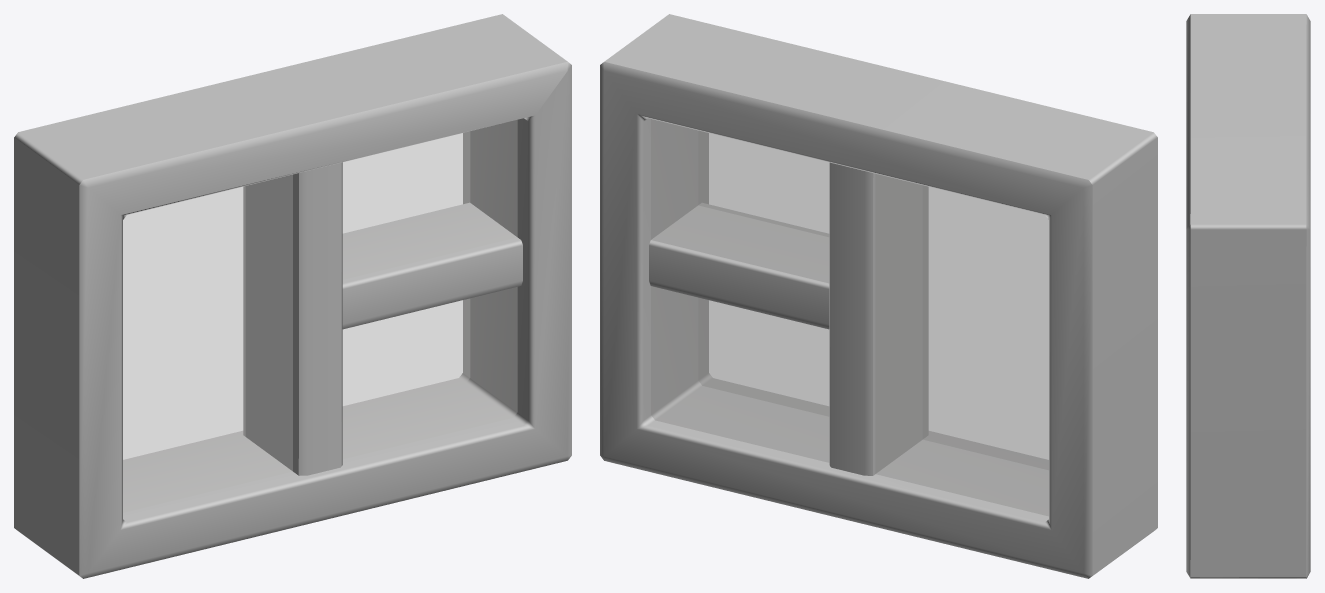
The model's file is Window_19.fbx.
3 views of the same model, side by side, from view 1: azimuth 30°, elevation 25°; view 2: azimuth 150°, elevation 25°; view 3: azimuth 270°, elevation 25° (orthographic). The views are drawn at different scales.
Visible parts, largest first — view 1: Window_19; view 2: Window_19; view 3: Window_19.
Boxes of the visible parts, x1,y1,x2,y2 form: Window_19: (14,14,571,578); Window_19: (600,14,1157,578); Window_19: (1186,14,1310,578).
Size of the model in its own units: 193 by 149 by 47.4.
